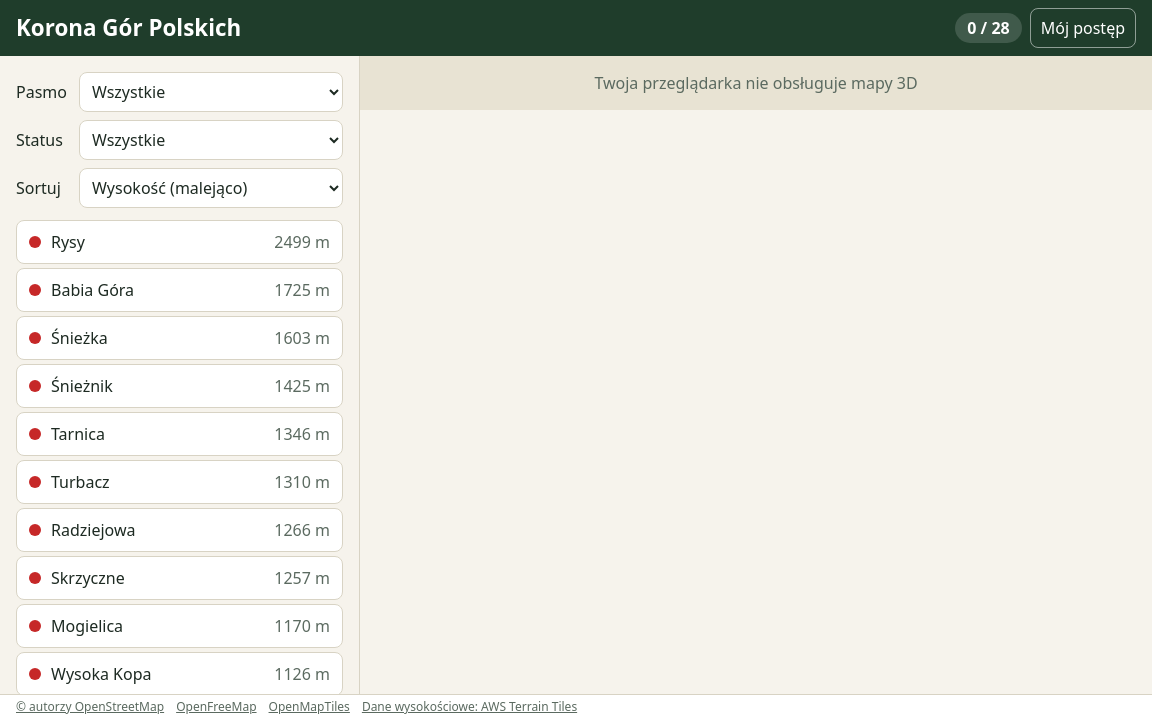
Test: App › marking a peak as done updates the counter to '1 / 28'
This screenshot has width=1152, height=720.
Expected: the text "0 / 28" is shown, [955, 13, 1022, 43]
Click the button "Babia Góra 1725 m" at (93, 290), box [16, 268, 343, 312]
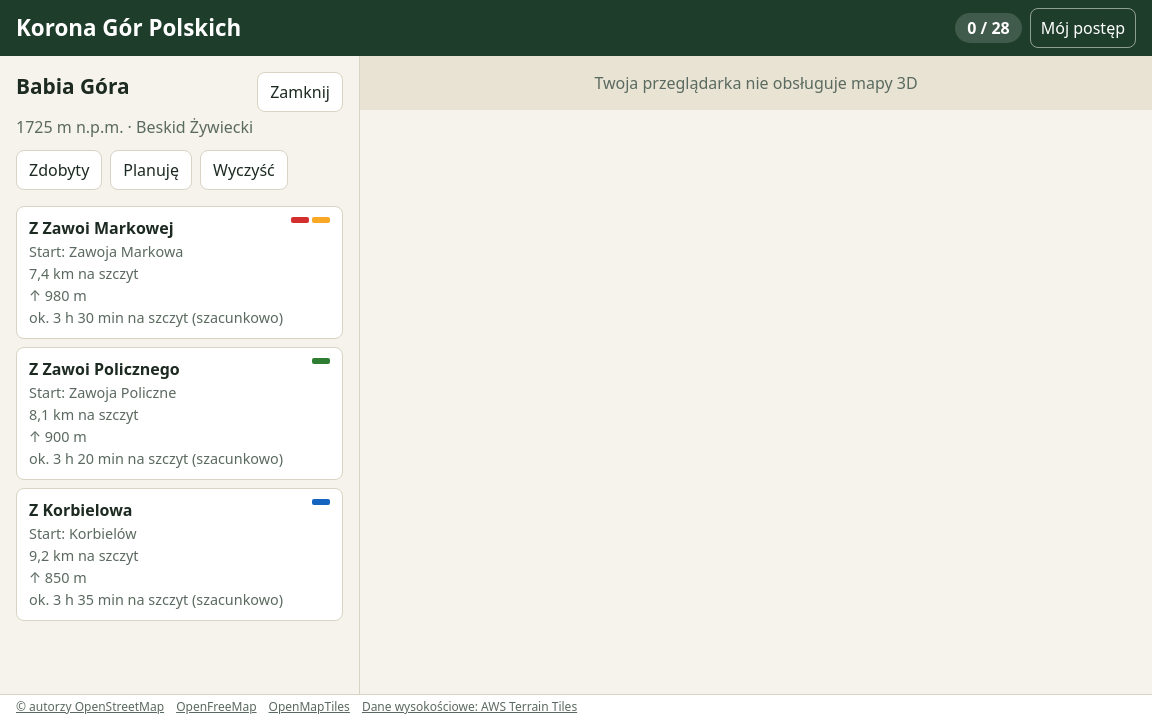
Click the button "Zdobyty" at (59, 170), box [16, 150, 102, 190]
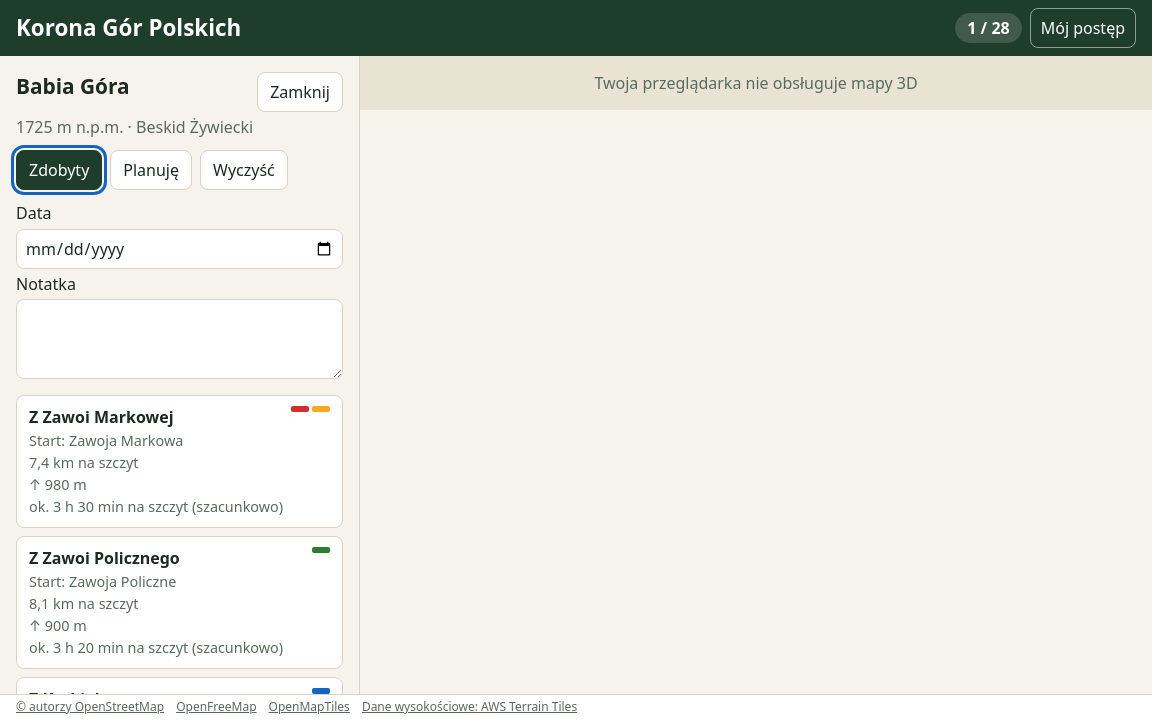
Expected: the text "1 / 28" is shown, [955, 13, 1022, 43]
